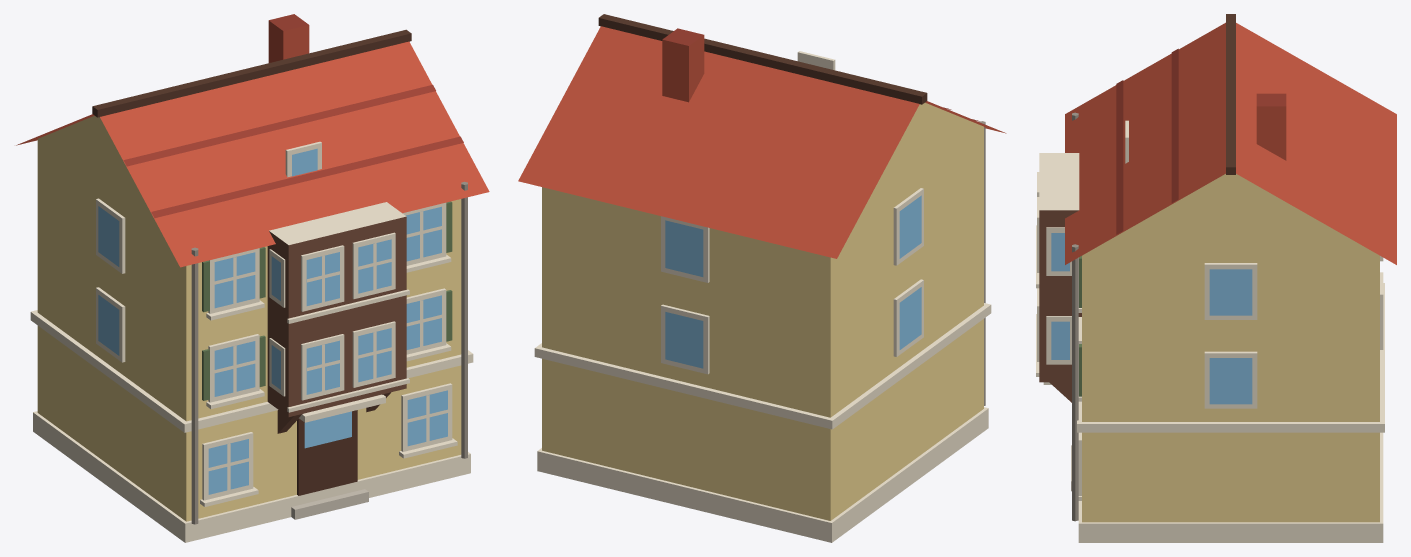
File: B_AptCumba.fbx
3 renders of one model, left to right at view 1: azimuth 30°, elevation 25°; view 2: azimuth 150°, elevation 25°; view 3: azimuth 270°, elevation 25°, orthographic. The views are drawn at different scales.
Parts seen in each view (by area): view 1: B_AptCumba; view 2: B_AptCumba; view 3: B_AptCumba.
Part boxes in pixels (<box>): B_AptCumba: <box>16,14,489,542</box>; B_AptCumba: <box>518,14,1006,542</box>; B_AptCumba: <box>1036,14,1396,542</box>.
Size of the model in its own units: 4.26 by 5.2 by 4.24.
